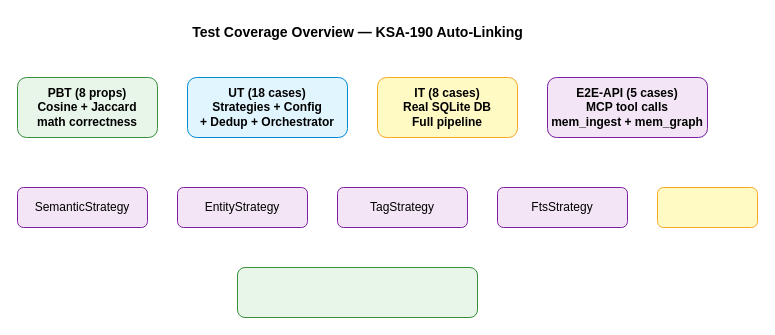
Some shapes in this 775 by 335 pixel diagram are drawn without their labels. The box of each missing label's shape, as (x1, y1, x2, y2) in pixels:
AutoLinker: (656, 186, 758, 228)
Total: 41 test cases 39 automated (95%) 2 manual SIT: (236, 266, 478, 318)
